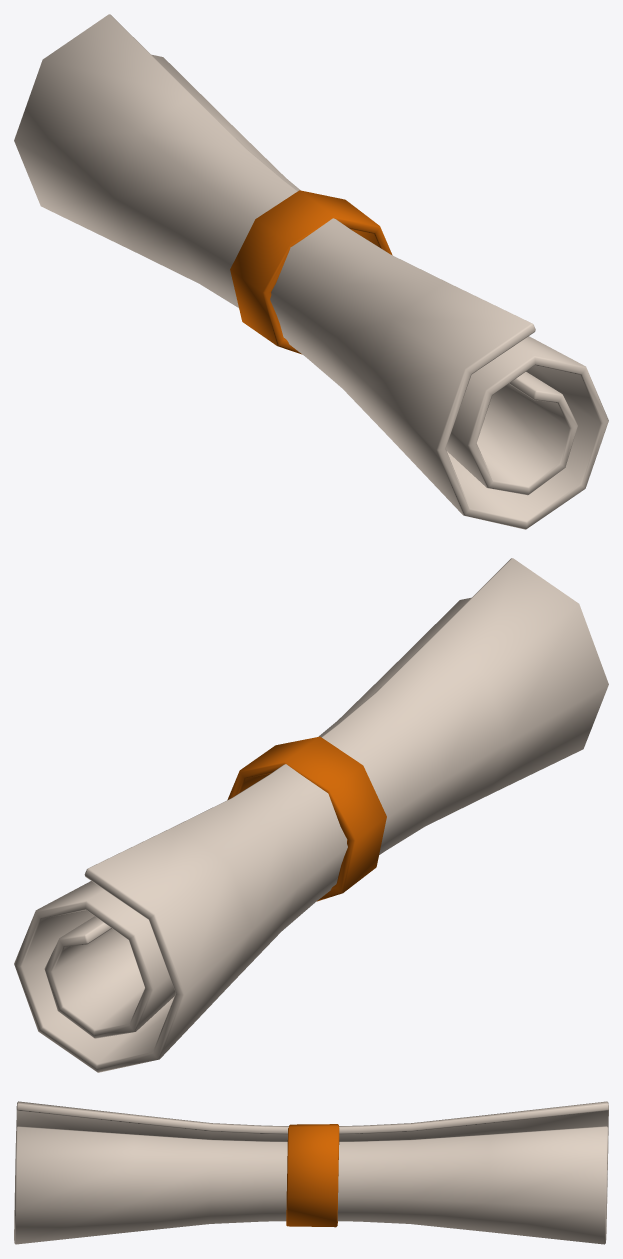
The model's file is updatedScroll1.fbx.
3 renders of one model, top to bottom at view 1: azimuth 30°, elevation 25°; view 2: azimuth 150°, elevation 25°; view 3: azimuth 270°, elevation 25°, orthographic. The views are drawn at different scales.
Parts seen in each view (by area): view 1: diploma, Holder; view 2: diploma, Holder; view 3: diploma, Holder.
Part boxes in pixels (<box>): diploma: <box>14,14,608,529</box>; Holder: <box>230,190,392,354</box>; diploma: <box>14,558,608,1072</box>; Holder: <box>227,736,386,901</box>; diploma: <box>14,1101,608,1244</box>; Holder: <box>286,1124,339,1227</box>.
Bounding box in the file's own units: 59.09 × 66.94 × 255.
